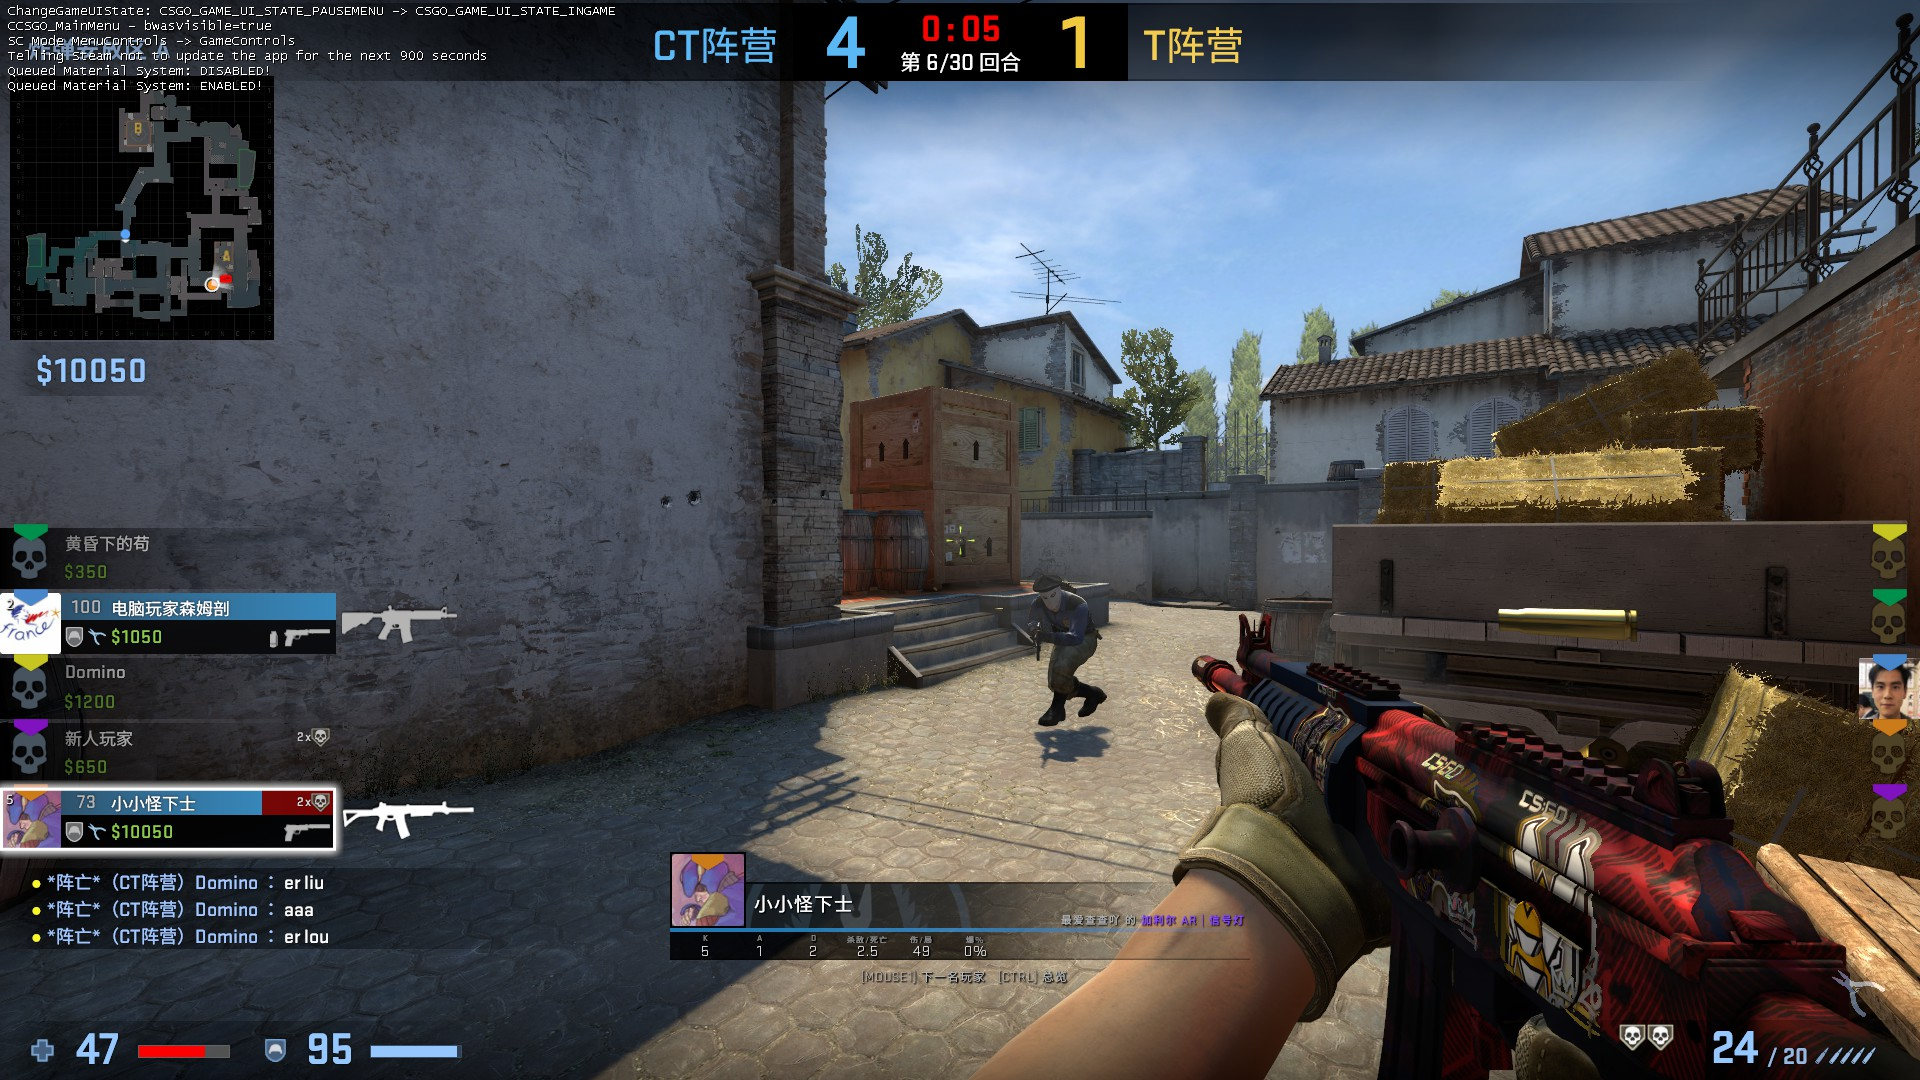head: (1027, 574, 1069, 613)
